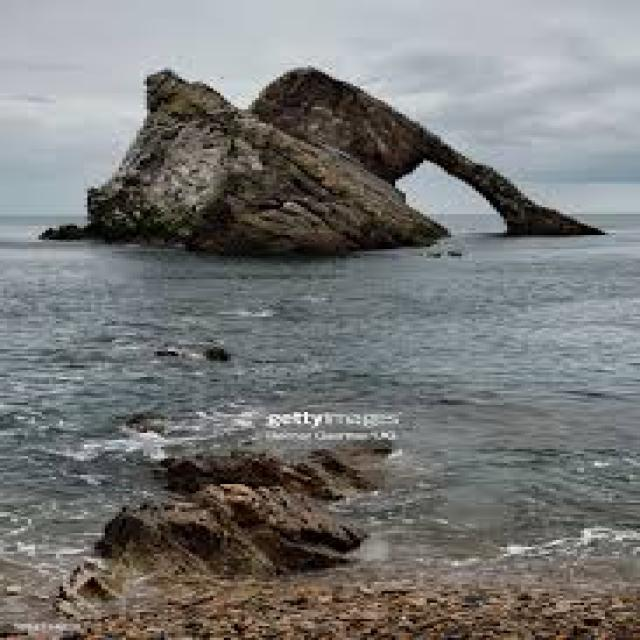Metamorphic: (42, 56, 612, 256)
